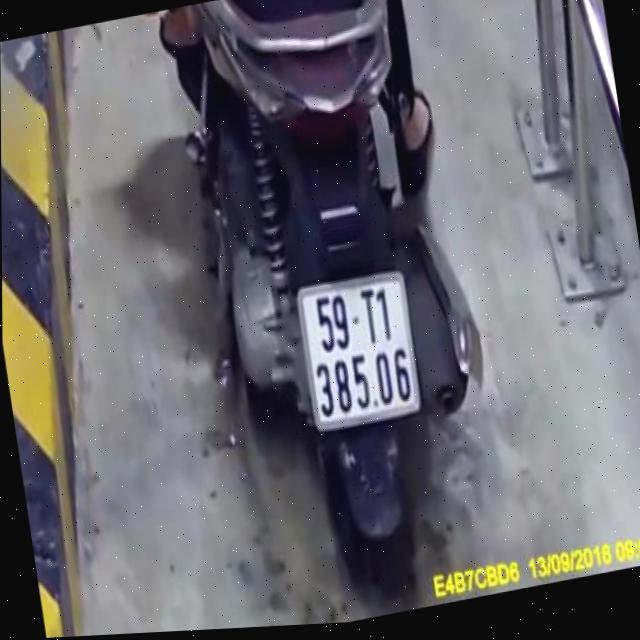motorcycle: (146, 0, 524, 612)
plate: (287, 260, 428, 436)
